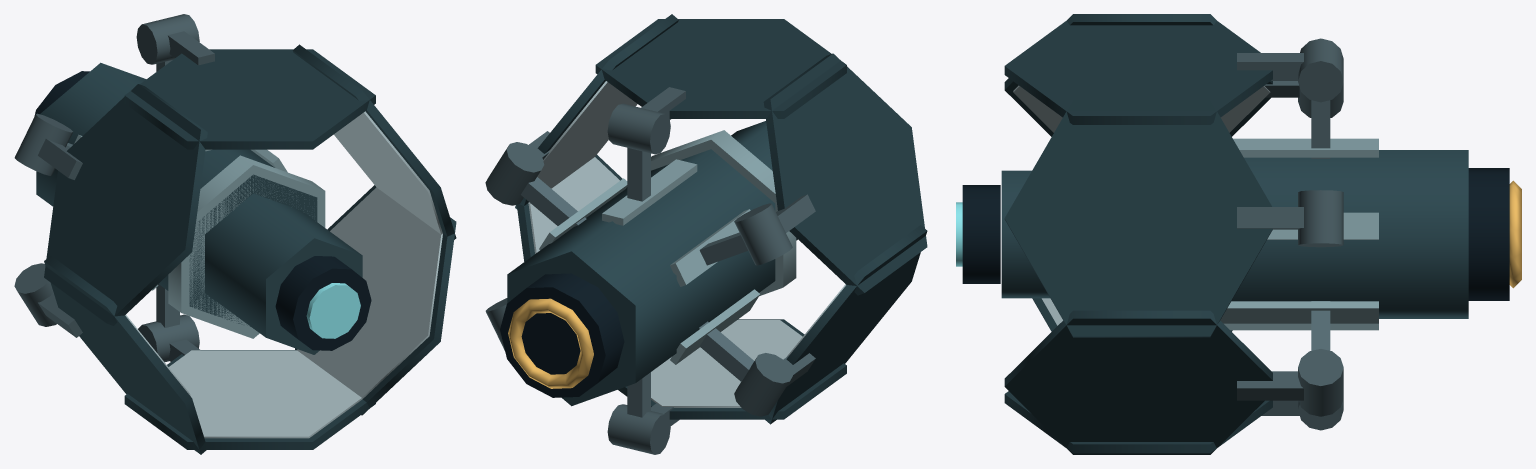
Rendered from satellite_d0_lod1.glb.
3 views of the same model, side by side, from view 1: azimuth 30°, elevation 25°; view 2: azimuth 150°, elevation 25°; view 3: azimuth 270°, elevation 25° (orthographic). The views are drawn at different scales.
Parts seen in each view (by area): view 1: SATELLITE_BUS, PETAL_2_MESH, PETAL_1_MESH, PETAL_4_MESH, PETAL_5_MESH, PETAL_3_MESH, PETAL_6_MESH; view 2: SATELLITE_BUS, PETAL_2_MESH, PETAL_1_MESH, PETAL_4_MESH, PETAL_3_MESH, PETAL_6_MESH, PETAL_5_MESH; view 3: SATELLITE_BUS, PETAL_6_MESH, PETAL_5_MESH, PETAL_1_MESH, PETAL_2_MESH, PETAL_4_MESH.
Boxes of the visible parts, x1,y1,x2,y2 form: SATELLITE_BUS: [34, 60, 371, 354]; PETAL_2_MESH: [14, 84, 207, 325]; PETAL_1_MESH: [124, 14, 375, 149]; PETAL_4_MESH: [124, 314, 375, 449]; PETAL_5_MESH: [295, 185, 456, 415]; PETAL_3_MESH: [14, 255, 206, 454]; PETAL_6_MESH: [292, 44, 456, 239]; SATELLITE_BUS: [500, 121, 797, 417]; PETAL_2_MESH: [734, 53, 927, 295]; PETAL_1_MESH: [595, 19, 846, 154]; PETAL_4_MESH: [607, 319, 846, 454]; PETAL_3_MESH: [734, 225, 927, 424]; PETAL_6_MESH: [485, 14, 678, 209]; PETAL_5_MESH: [485, 155, 622, 350]; SATELLITE_BUS: [956, 100, 1521, 350]; PETAL_6_MESH: [1004, 100, 1343, 337]; PETAL_5_MESH: [1004, 310, 1343, 454]; PETAL_1_MESH: [1004, 21, 1343, 124]; PETAL_2_MESH: [1004, 14, 1343, 136]; PETAL_4_MESH: [1004, 391, 1343, 453].
Size of what is drawn, in the model's own units: 2.31 by 2.14 by 2.97.
